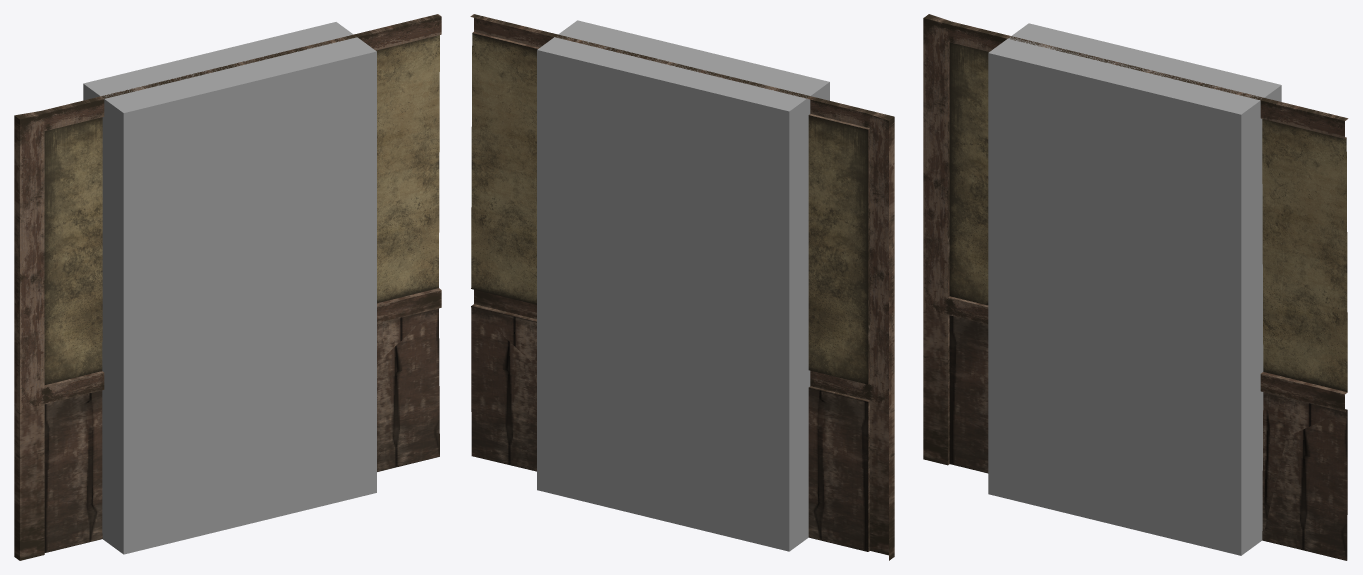
The model's file is ReWall2_Cut_R.fbx.
The picture shows the model from 3 angles, left to right: view 1: azimuth 30°, elevation 25°; view 2: azimuth 150°, elevation 25°; view 3: azimuth 330°, elevation 25°; orthographic projection.
Visible parts, largest first — view 1: pCube1, RrWall2, ReWallCut; view 2: pCube1, RrWall2, ReWallCut; view 3: pCube1, RrWall2, ReWallCut.
Boxes of the visible parts, <box> form: pCube1: <box>83,22,376,554</box>; RrWall2: <box>14,14,441,560</box>; ReWallCut: <box>376,28,441,367</box>; pCube1: <box>537,20,829,551</box>; RrWall2: <box>471,14,894,560</box>; ReWallCut: <box>470,16,552,471</box>; pCube1: <box>988,23,1281,555</box>; RrWall2: <box>923,14,1347,560</box>; ReWallCut: <box>1260,101,1347,560</box>.
Size of the model in its own units: 300 by 300 by 50.
3 materials, 2 textured.
